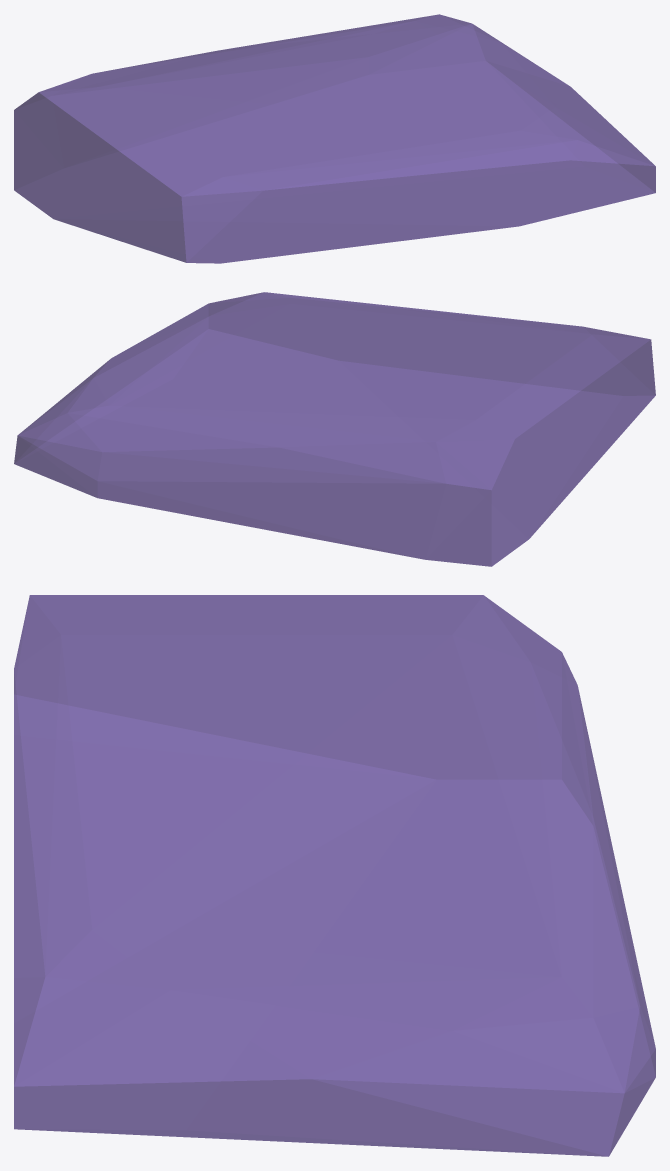
3 renders of one model, top to bottom at view 1: azimuth 30°, elevation 25°; view 2: azimuth 150°, elevation 25°; view 3: azimuth 270°, elevation 25°, orthographic. The views are drawn at different scales.
Visible parts, largest first — view 1: Shape_IndexedFaceSet.012_Shape_IndexedFaceSet.9015; view 2: Shape_IndexedFaceSet.012_Shape_IndexedFaceSet.9015; view 3: Shape_IndexedFaceSet.012_Shape_IndexedFaceSet.9015.
Boxes of the visible parts, bbox=[...] form: Shape_IndexedFaceSet.012_Shape_IndexedFaceSet.9015: bbox=[14, 14, 655, 263]; Shape_IndexedFaceSet.012_Shape_IndexedFaceSet.9015: bbox=[14, 292, 655, 566]; Shape_IndexedFaceSet.012_Shape_IndexedFaceSet.9015: bbox=[14, 595, 655, 1156].
Bounding box in the file's own units: 0.0227 × 0.00519 × 0.0164.
